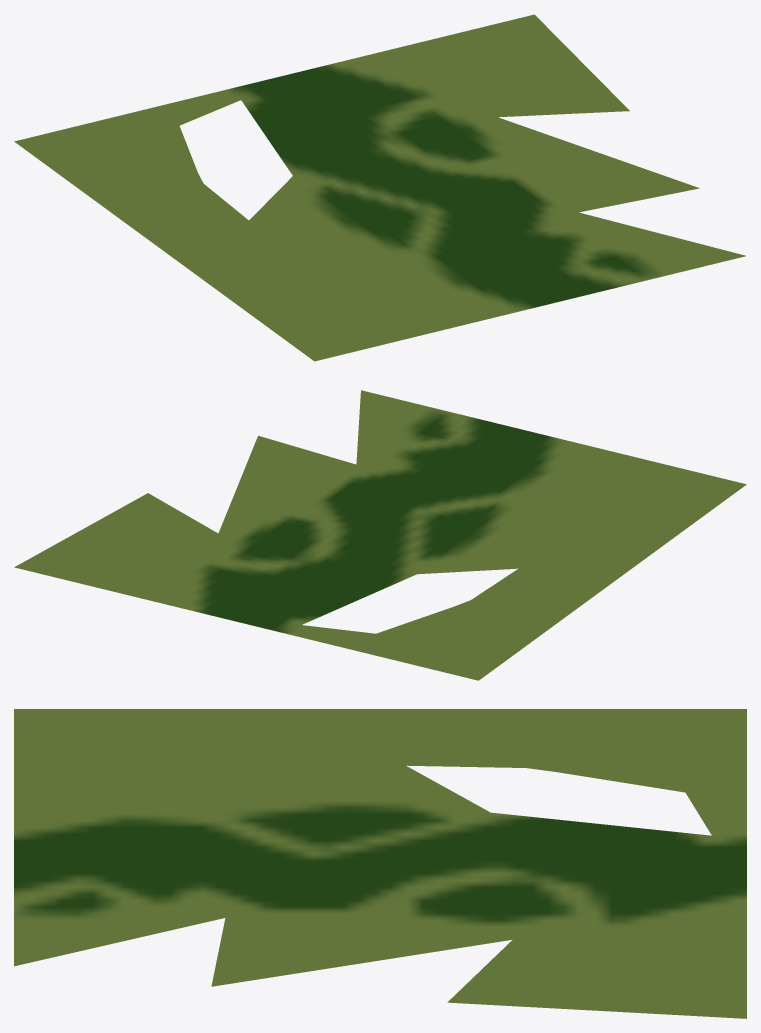
The model's file is SelersRug_Pink.fbx.
3 views of the same model, one above another, from view 1: azimuth 30°, elevation 25°; view 2: azimuth 150°, elevation 25°; view 3: azimuth 270°, elevation 25° (orthographic). The views are drawn at different scales.
Visible parts, largest first — view 1: SelersRug_Pink; view 2: SelersRug_Pink; view 3: SelersRug_Pink.
Part boxes in pixels (box(x1,y1,x2,y2)): SelersRug_Pink: box(14, 14, 745, 361); SelersRug_Pink: box(14, 390, 746, 680); SelersRug_Pink: box(14, 709, 746, 1018).
Bounding box in the file's own units: 7 × 0 × 7.
